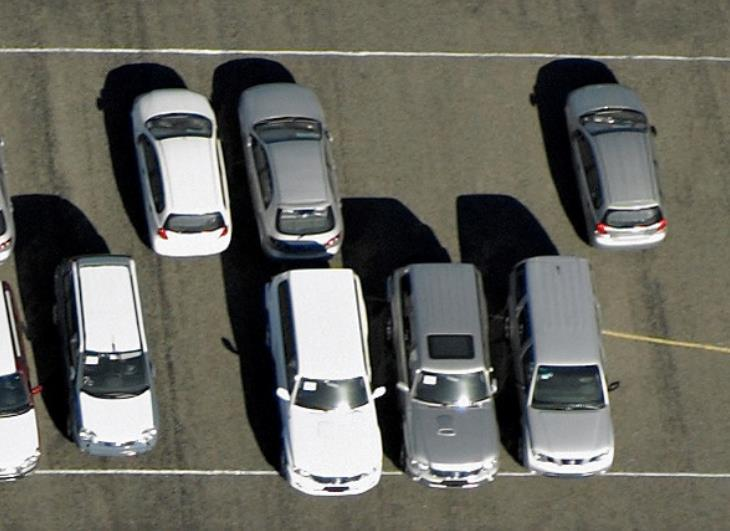car: (255, 265, 386, 493), (383, 259, 503, 491), (500, 254, 620, 479), (45, 256, 162, 458), (233, 79, 349, 261), (557, 77, 674, 250), (127, 83, 234, 256)
